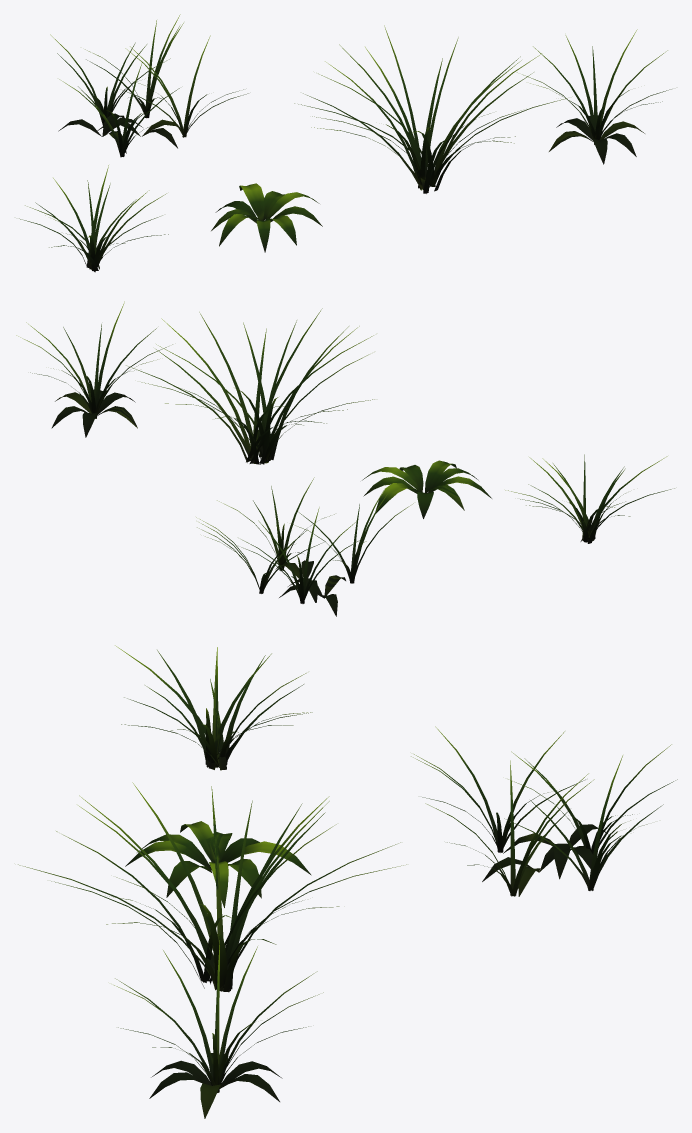
File: vegetation.glb
The picture shows the model from 3 angles, top to bottom: view 1: azimuth 30°, elevation 25°; view 2: azimuth 150°, elevation 25°; view 3: azimuth 270°, elevation 25°; orthographic projection. The views are drawn at different scales.
Parts seen in each view (by area): view 1: GrassTuft_Tall, GrassTuft_Patch_1x1, GrassTuft_Mixed, GrassTuft_Broad, GrassTuft_Fine; view 2: GrassTuft_Tall, GrassTuft_Patch_1x1, GrassTuft_Mixed, GrassTuft_Broad, GrassTuft_Fine; view 3: GrassTuft_Tall, GrassTuft_Patch_1x1, GrassTuft_Mixed, GrassTuft_Broad, GrassTuft_Fine.
Boxes of the visible parts, x1,y1,x2,y2 form: GrassTuft_Tall: (294, 25, 567, 193); GrassTuft_Patch_1x1: (50, 14, 248, 157); GrassTuft_Mixed: (517, 29, 671, 164); GrassTuft_Broad: (211, 183, 322, 252); GrassTuft_Fine: (19, 165, 168, 272); GrassTuft_Tall: (126, 308, 374, 464); GrassTuft_Patch_1x1: (196, 477, 413, 616); GrassTuft_Mixed: (16, 301, 172, 437); GrassTuft_Broad: (362, 460, 491, 518); GrassTuft_Fine: (505, 454, 674, 543); GrassTuft_Tall: (18, 782, 406, 992); GrassTuft_Patch_1x1: (411, 726, 677, 896); GrassTuft_Mixed: (114, 940, 323, 1118); GrassTuft_Broad: (125, 821, 311, 907); GrassTuft_Fine: (115, 645, 312, 770).
Size of the model in its own units: 7.67 by 1.31 by 5.14.
Materials: 1 (1 with a texture image).
